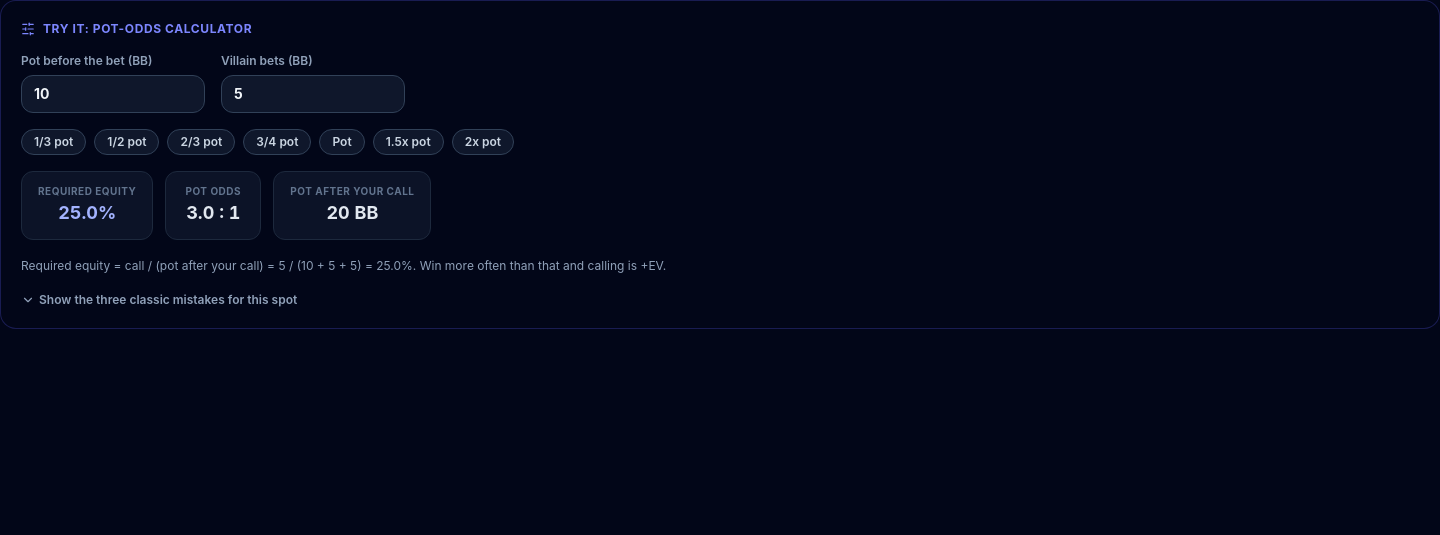
Test: PotOddsCalculator › reveals the three classic mistakes with their wrong values
The width and height of the screenshot is (1440, 535).
What coordinates should you click on to do the following:
click the button "Show the three classic mistakes for this spot"
I would click on:
 (159, 300)
Its box is [21, 292, 297, 308].
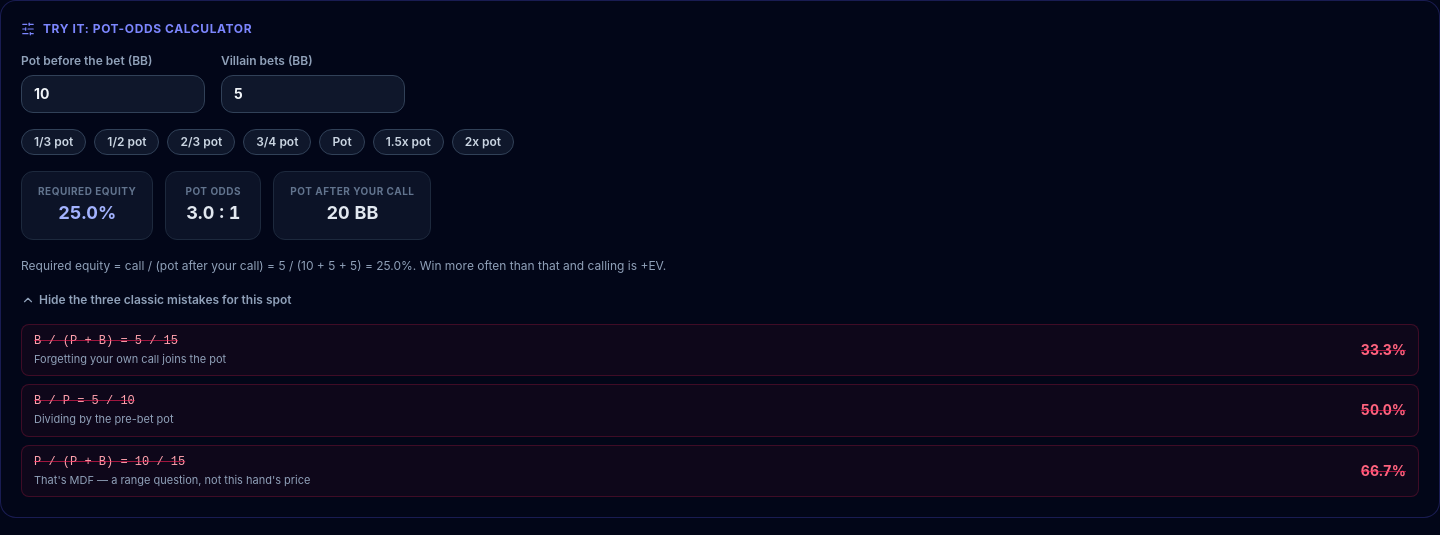
Check: the text "33.3%" is shown, box [1361, 340, 1406, 360]
Check: the text "50.0%" is shown, box [1361, 400, 1406, 420]
Check: the text "66.7%" is shown, box [1361, 461, 1406, 481]
